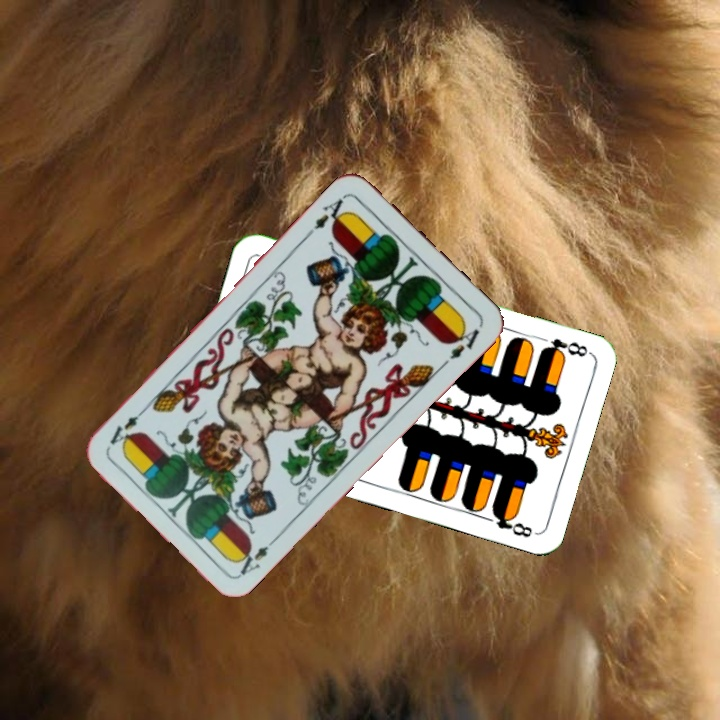E8: (537, 334, 592, 360)
EA: (231, 532, 282, 579), (303, 191, 351, 239)
